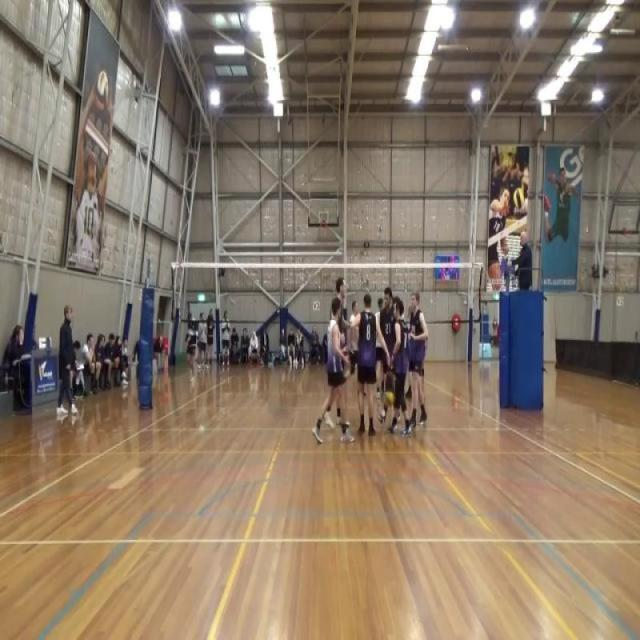volleyball: (95, 69, 109, 112), (513, 187, 525, 210), (382, 387, 394, 409)
